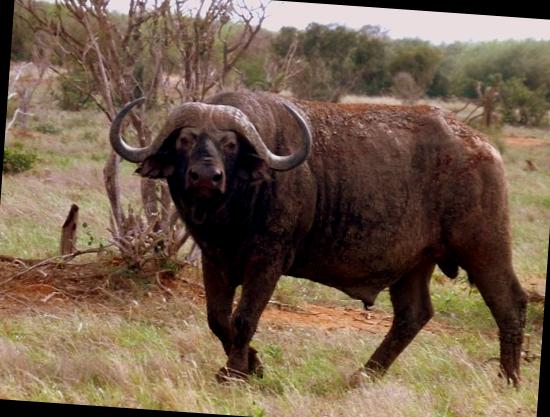Buffalo: (54, 55, 550, 417)
